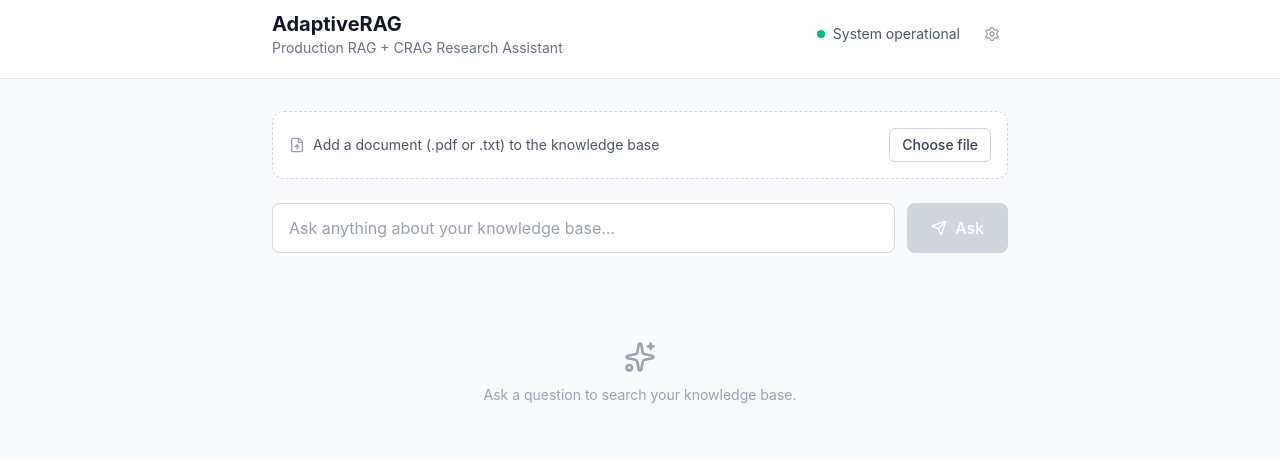
it: App › shows an error banner with a retry option when the query fails
Type "hello" into the field named "query" at [584, 228], box [272, 203, 895, 253]
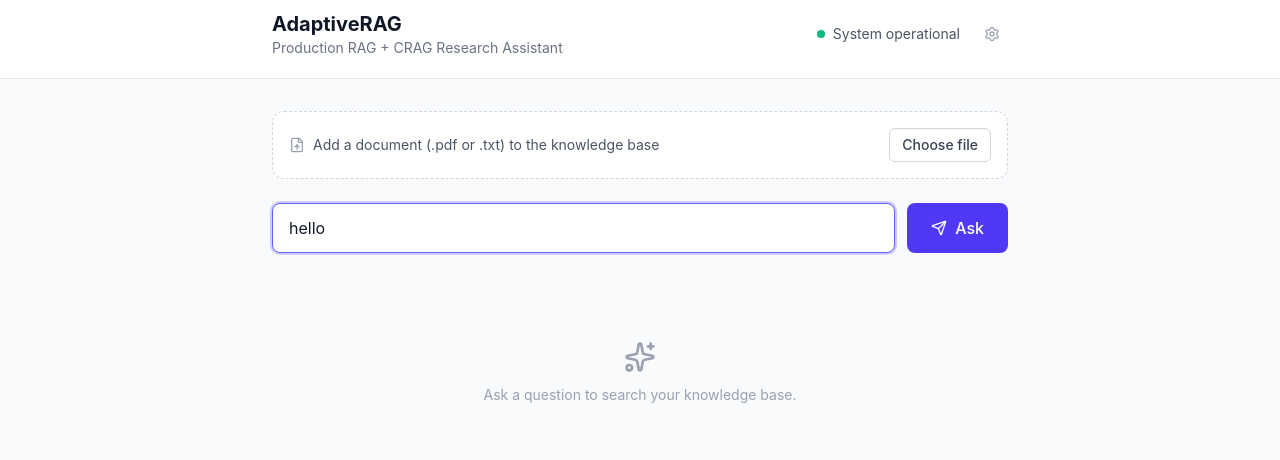
Click the button "Ask" at [958, 228], box [907, 203, 1008, 253]
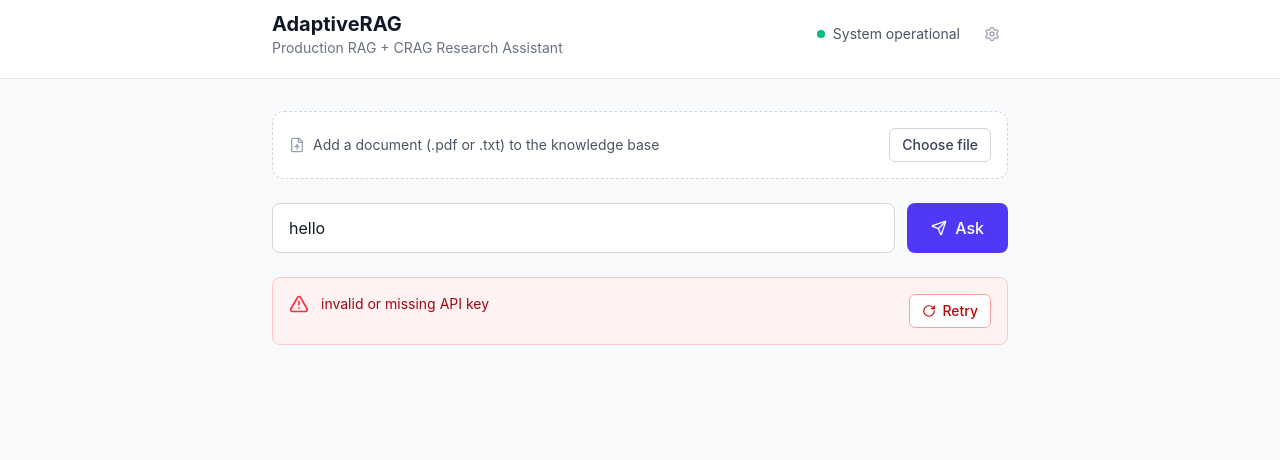
Check: the message with test id "error-banner" shows "invalid or missing API key", box [321, 295, 489, 312]
Click the button "Retry" at [950, 311], box [909, 294, 991, 328]
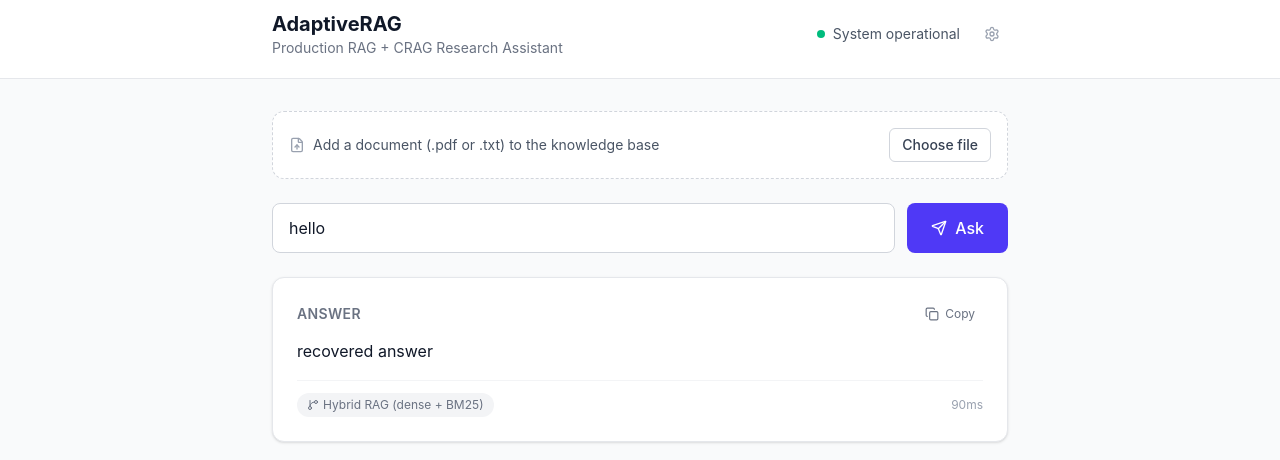
Check: the text "recovered answer" is shown, box [297, 341, 433, 361]
